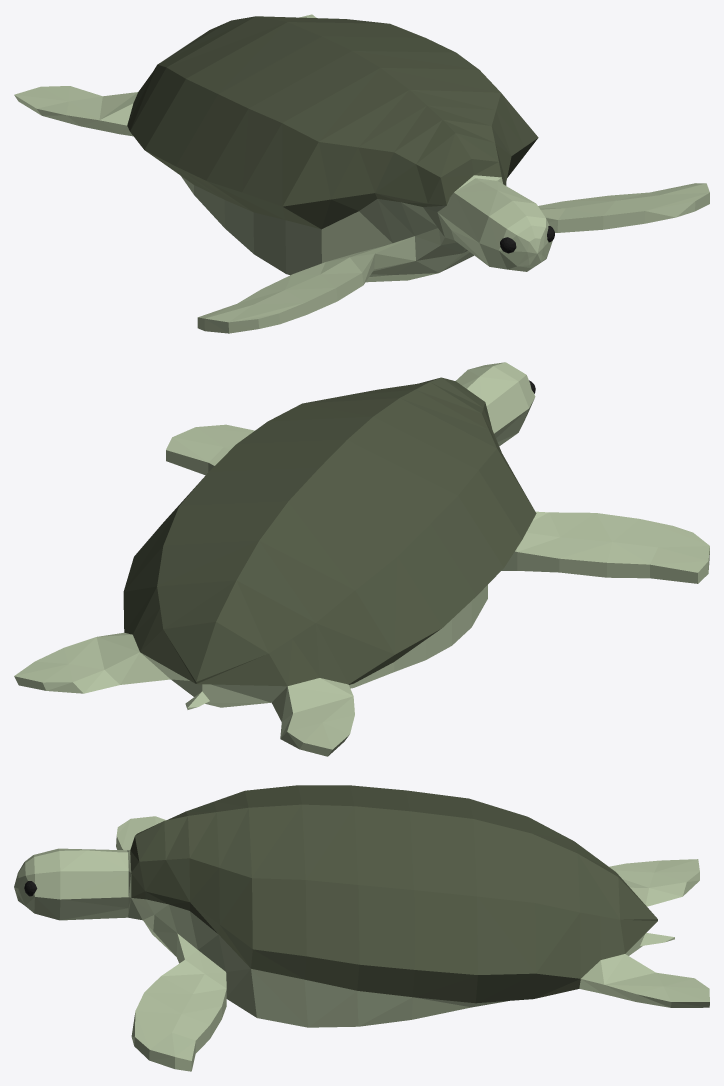
File: turtle.glb
3 renders of one model, top to bottom at view 1: azimuth 30°, elevation 25°; view 2: azimuth 150°, elevation 25°; view 3: azimuth 270°, elevation 25°, orthographic. The views are drawn at different scales.
Parts seen in each view (by area): view 1: Turtle_geo; view 2: Turtle_geo; view 3: Turtle_geo.
Part boxes in pixels (x1,y1,x2,y2): Turtle_geo: [14, 14, 709, 333]; Turtle_geo: [14, 362, 709, 756]; Turtle_geo: [14, 785, 709, 1071].
Bounding box in the file's own units: 1.13 × 0.4303 × 1.37.
2 materials, 2 textured.
